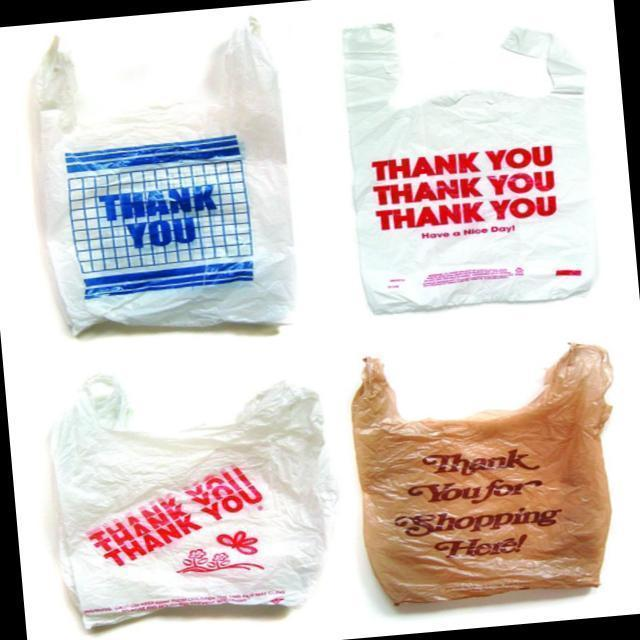Plastic_Bag: (23, 11, 310, 354)
